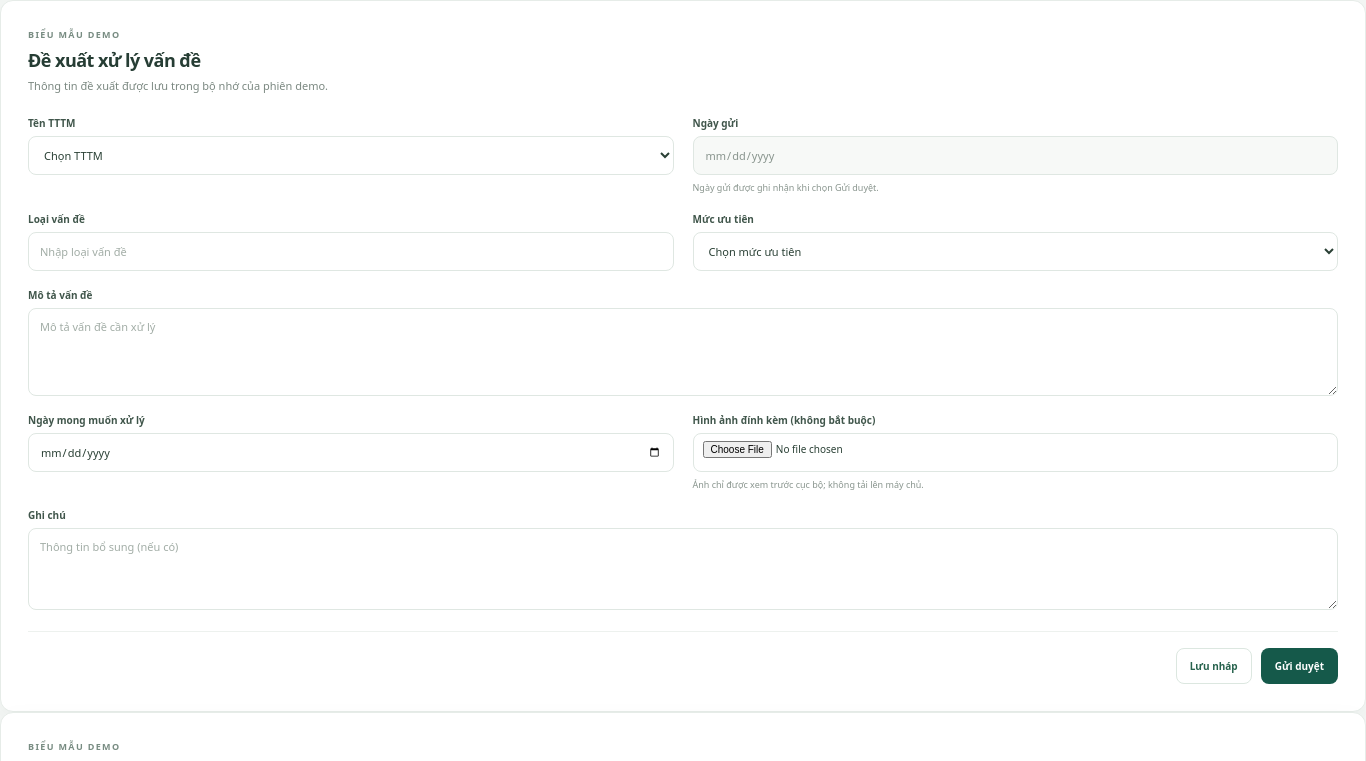
Đề xuất xử lý vấn đề › TC01: chấp nhận dữ liệu hợp lệ, lưu bản ghi Chờ duyệt và ngày gửi vào danh sách
Select "TTTM Mẫu C" in the dropdown labelled "Tên TTTM": (351, 156) x1=28 y1=136 x2=674 y2=175
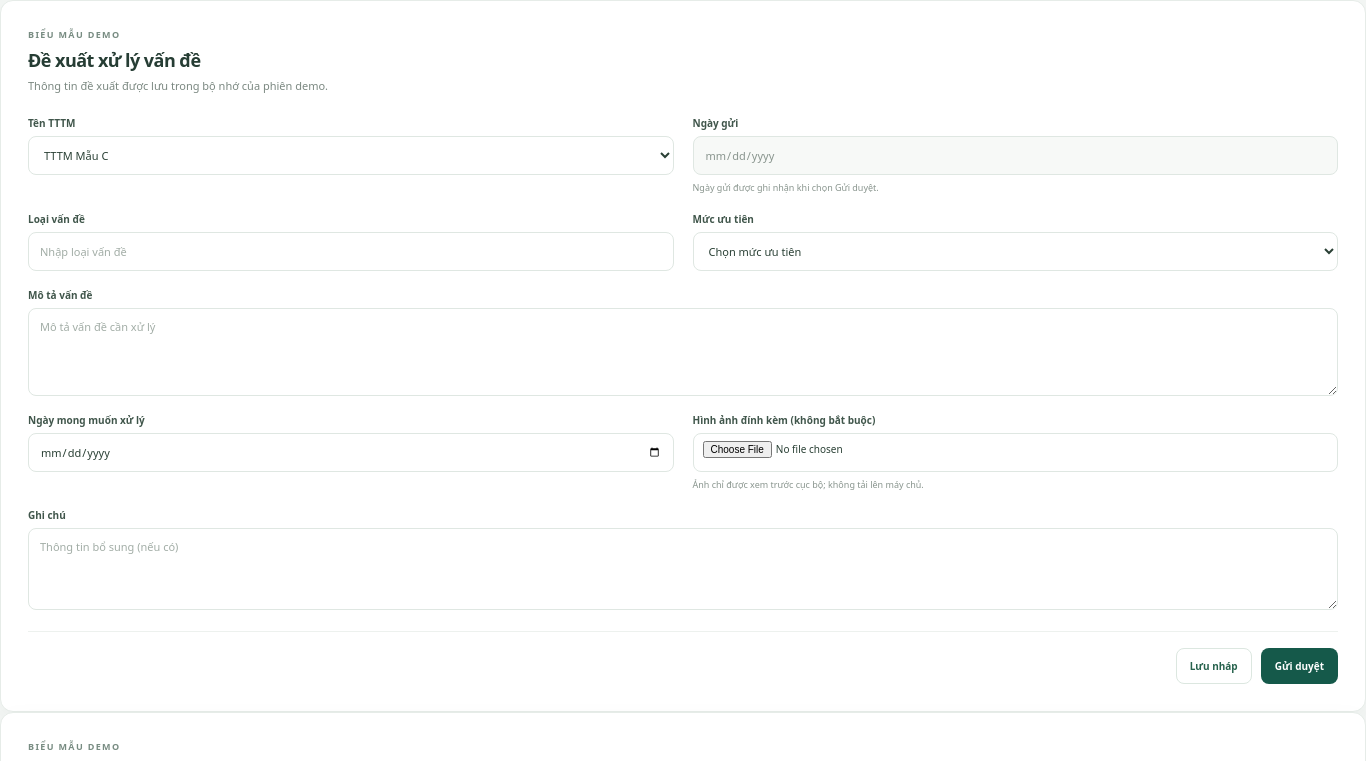
In the field labelled "Loại vấn đề": (351, 251) x1=28 y1=232 x2=674 y2=270, type "Thiết bị"
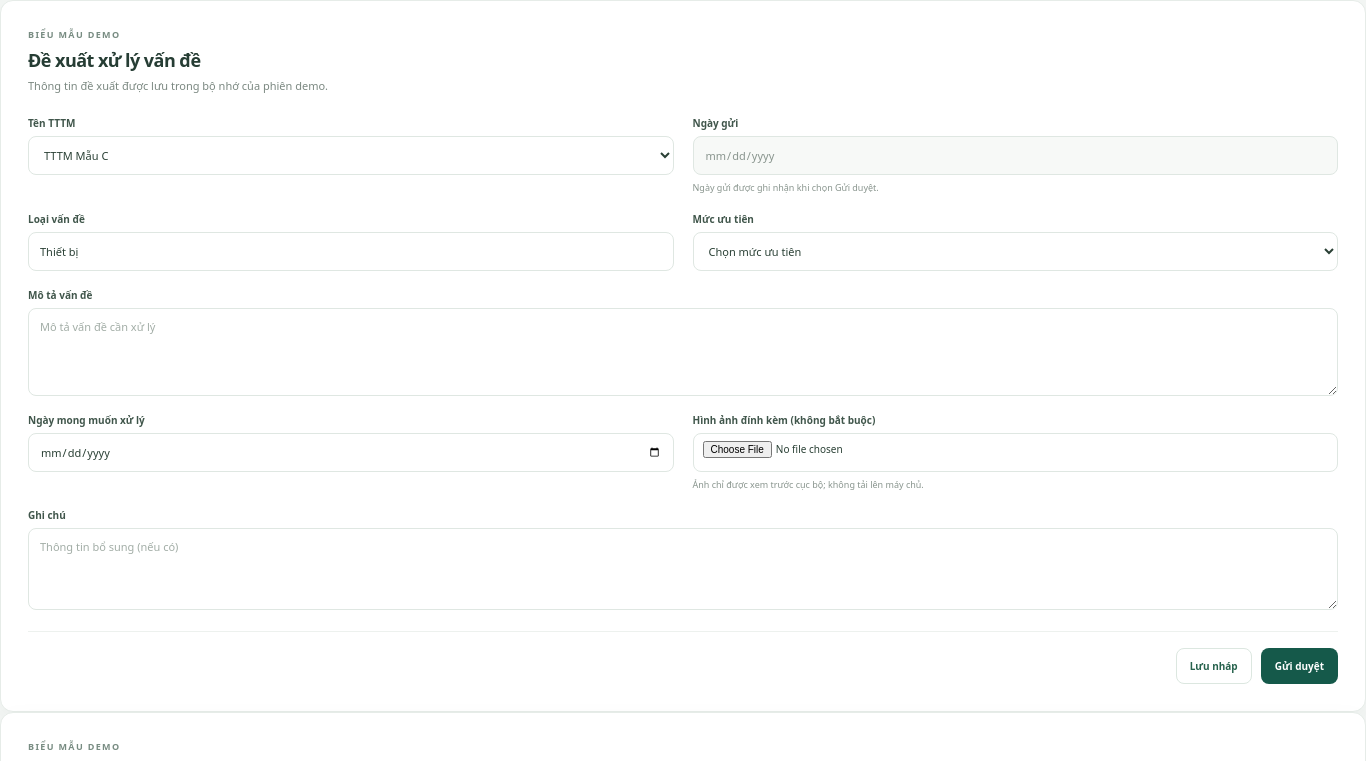
In the text box labelled "Mô tả vấn đề": (683, 352) x1=28 y1=308 x2=1338 y2=396, type "Mô tả giả lập cho kiểm thử biểu mẫu."
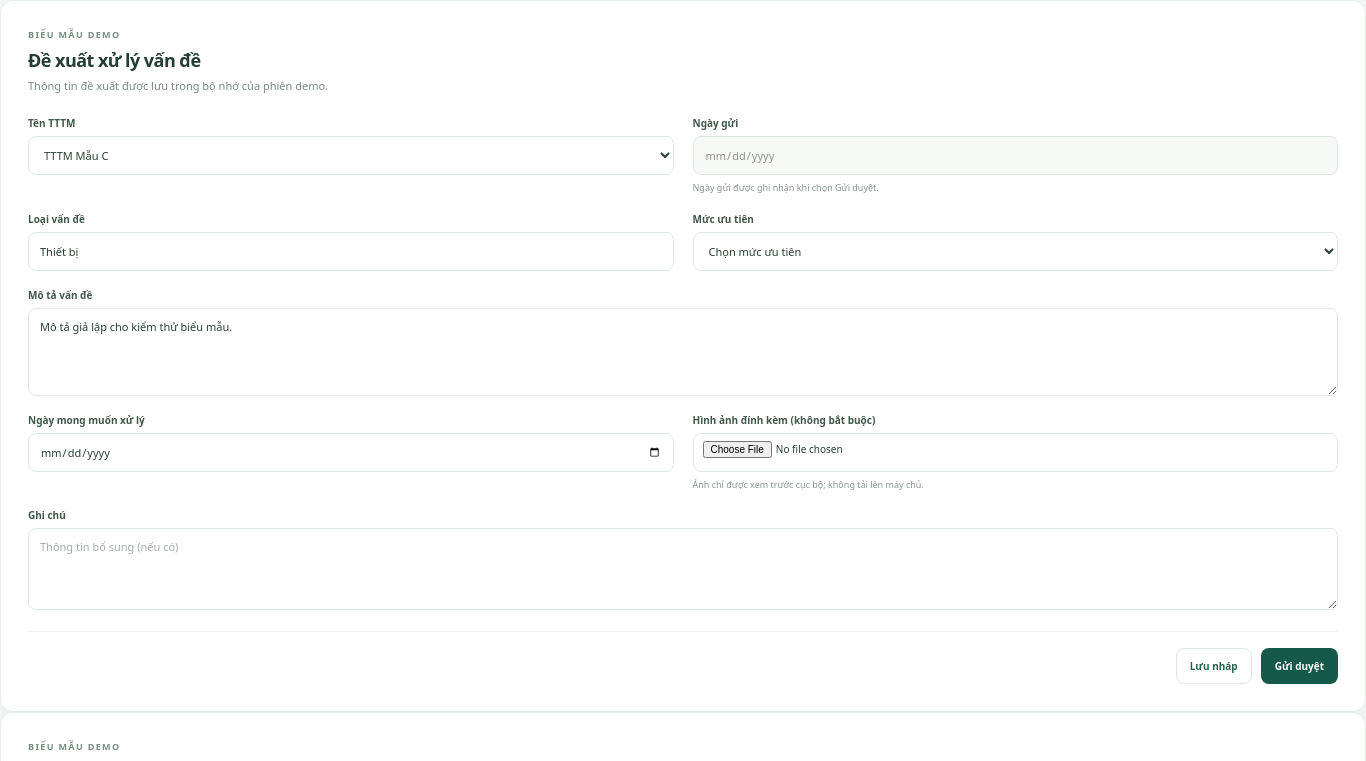
Select "Thường" in the dropdown labelled "Mức ưu tiên": (1015, 251) x1=692 y1=232 x2=1338 y2=270
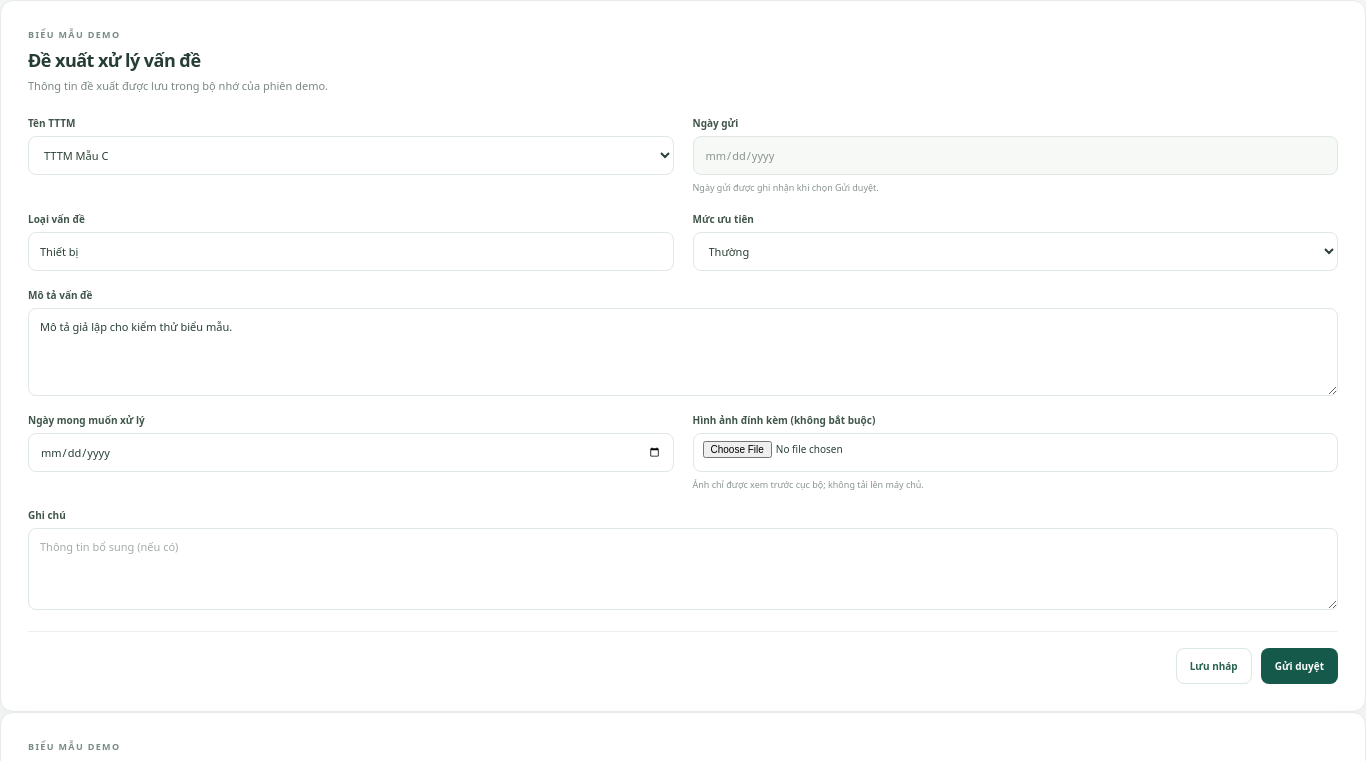
In the date field labelled "Ngày mong muốn xử lý": (351, 452) x1=28 y1=433 x2=674 y2=472, type "2099-01-01"
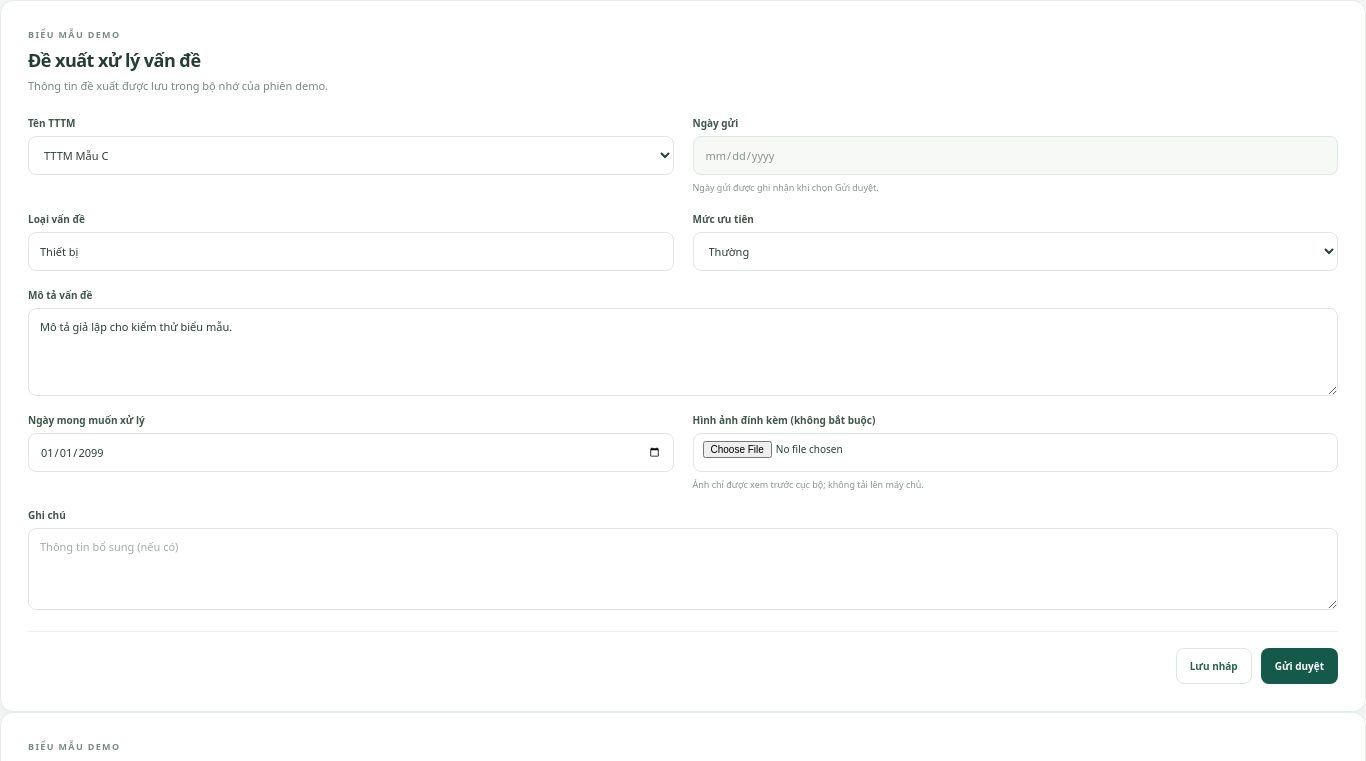
Click the button "Gửi duyệt": (1299, 666) x1=1261 y1=648 x2=1338 y2=684
(page scrolled)
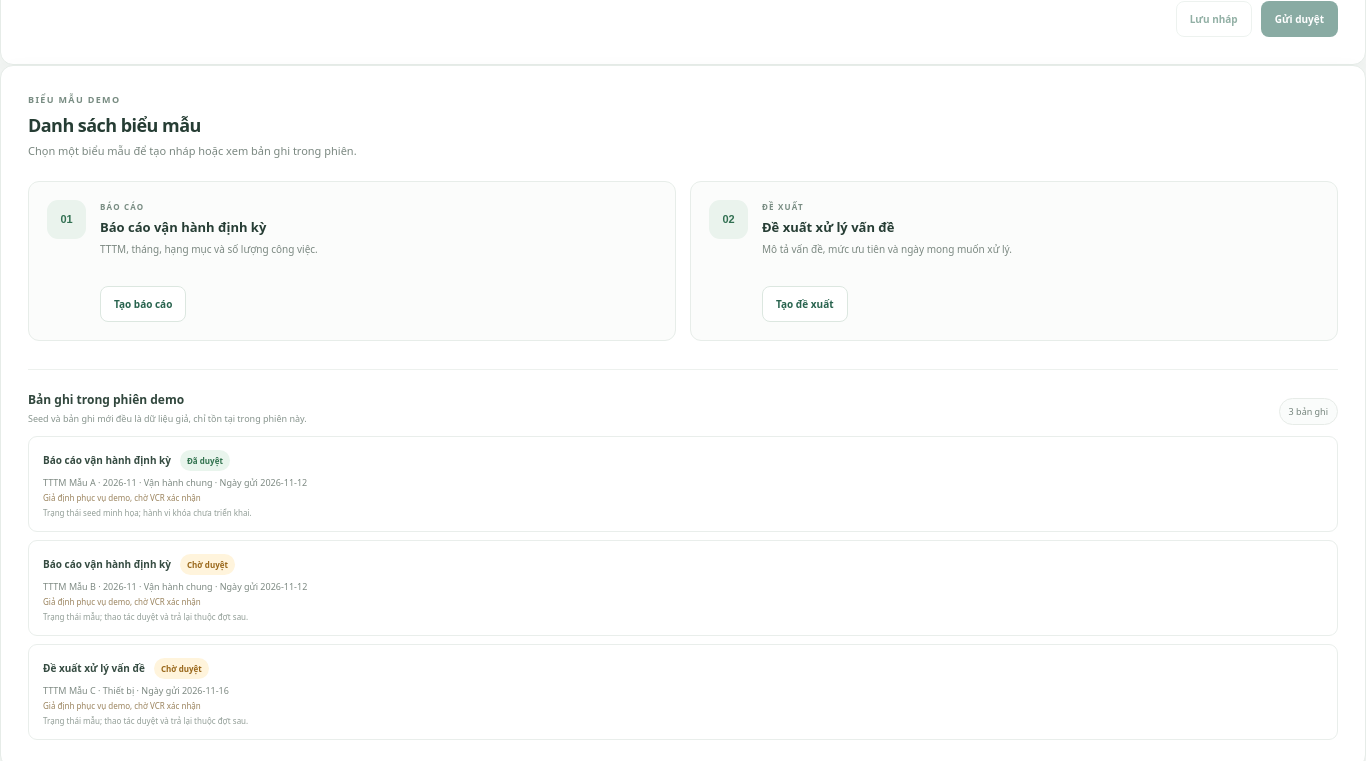
Result: the element with class "record-row" shows "Chờ duyệt" at x1=161 y1=663 x2=202 y2=674
Result: the text "3 bản ghi" is shown at x1=1279 y1=398 x2=1338 y2=425
